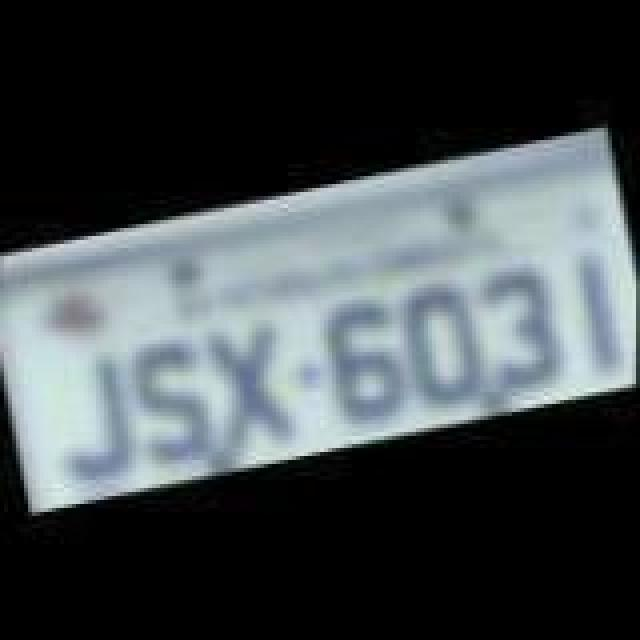1: (562, 244, 634, 372)
3: (468, 264, 568, 392)
6: (314, 292, 418, 428)
J: (40, 348, 144, 484)
O: (392, 282, 492, 410)
S: (122, 332, 222, 464)
X: (196, 318, 300, 454)
